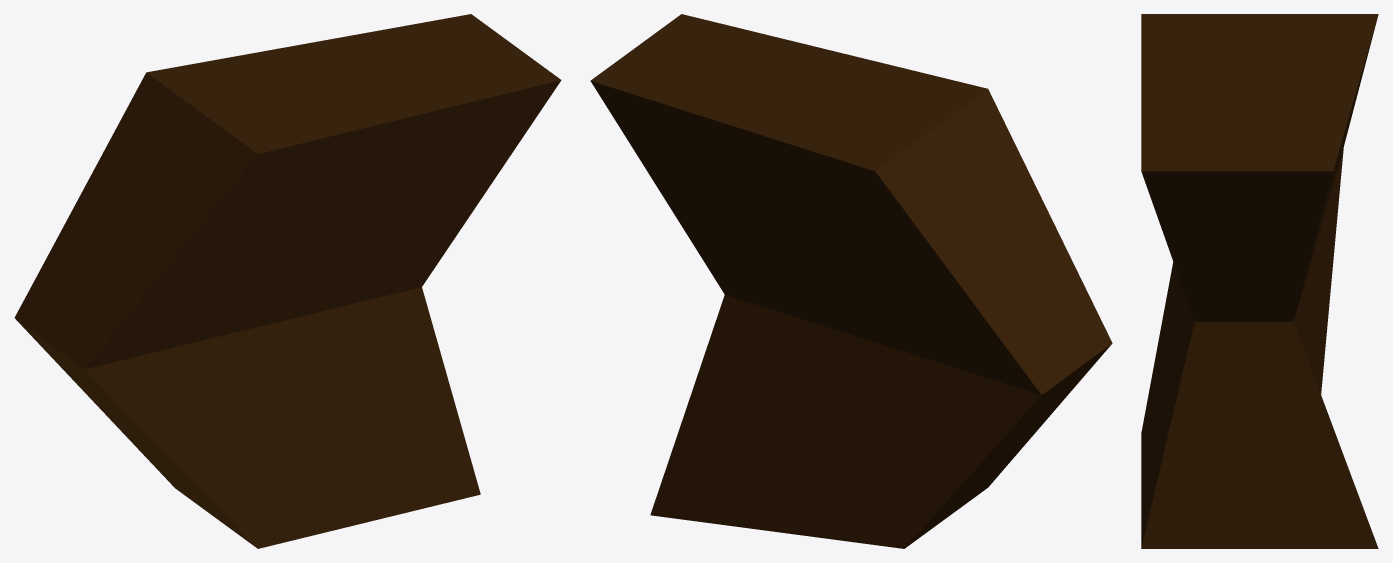
The model's file is tank_destroyed_3.glb.
3 views of the same model, side by side, from view 1: azimuth 30°, elevation 25°; view 2: azimuth 150°, elevation 25°; view 3: azimuth 270°, elevation 25° (orthographic). The views are drawn at different scales.
Parts seen in each view (by area): view 1: tank_destroyed_3; view 2: tank_destroyed_3; view 3: tank_destroyed_3.
Boxes of the visible parts, x1,y1,x2,y2 form: tank_destroyed_3: (14,14,561,548); tank_destroyed_3: (590,14,1112,548); tank_destroyed_3: (1141,14,1378,548).
Bounding box in the file's own units: 0.6349 × 0.5302 × 0.2719.
Materials: 1 (1 with a texture image).
